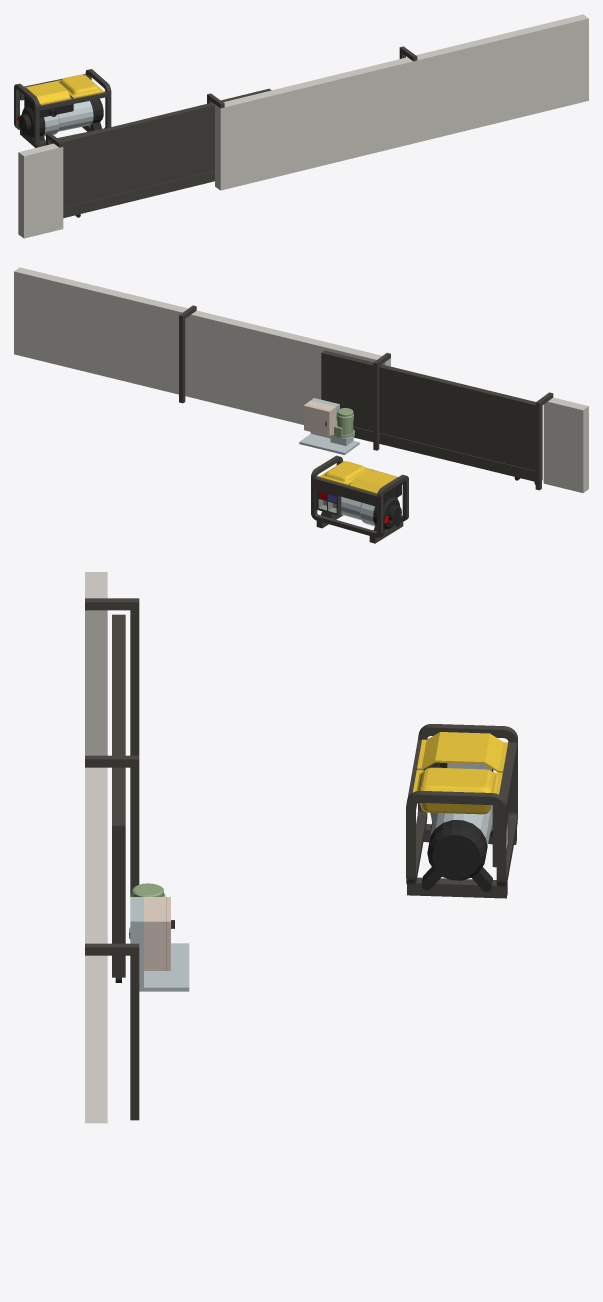
File: GeneratorRoom.fbx
3 renders of one model, top to bottom at view 1: azimuth 30°, elevation 25°; view 2: azimuth 150°, elevation 25°; view 3: azimuth 270°, elevation 25°, orthographic. The views are drawn at different scales.
Visible parts, largest first — view 1: MotorGateWall.002, MotorGate.002, Generator.015, Generator.020, Generator.021, Generator.007, Generator.016; view 2: MotorGateWall.002, MotorGate.002, GateMotor.002, Generator.015, Generator.014, GateMotorDoor.003, Generator.021, Generator.020, Generator.001; view 3: MotorGateWall.002, MotorGate.002, GateMotor.002, Generator.015, Generator.020, Generator.021, Generator.019, Generator.011, Generator.014.
Part boxes in pixels (<box>): MotorGateWall.002: <box>18,14,588,238</box>; MotorGate.002: <box>60,88,271,218</box>; Generator.015: <box>21,98,103,138</box>; Generator.020: <box>56,74,104,102</box>; Generator.021: <box>25,81,71,105</box>; Generator.007: <box>39,91,107,110</box>; Generator.016: <box>24,96,73,117</box>; MotorGateWall.002: <box>14,267,588,492</box>; MotorGate.002: <box>321,350,542,484</box>; GateMotor.002: <box>299,398,359,454</box>; Generator.015: <box>341,496,400,529</box>; Generator.014: <box>314,476,377,506</box>; GateMotorDoor.003: <box>304,405,330,436</box>; Generator.021: <box>349,469,397,493</box>; Generator.020: <box>319,461,371,485</box>; Generator.001: <box>316,515,376,537</box>; MotorGateWall.002: <box>85,572,139,1123</box>; MotorGate.002: <box>112,614,125,982</box>; GateMotor.002: <box>129,883,189,991</box>; Generator.015: <box>427,805,492,880</box>; Generator.020: <box>413,767,502,814</box>; Generator.021: <box>417,732,507,772</box>; Generator.019: <box>407,867,507,898</box>; Generator.011: <box>419,790,492,804</box>; Generator.014: <box>492,742,517,825</box>.
Size of the model in its own units: 28.74 by 4.23 by 9.55.
1 material, 1 textured.
